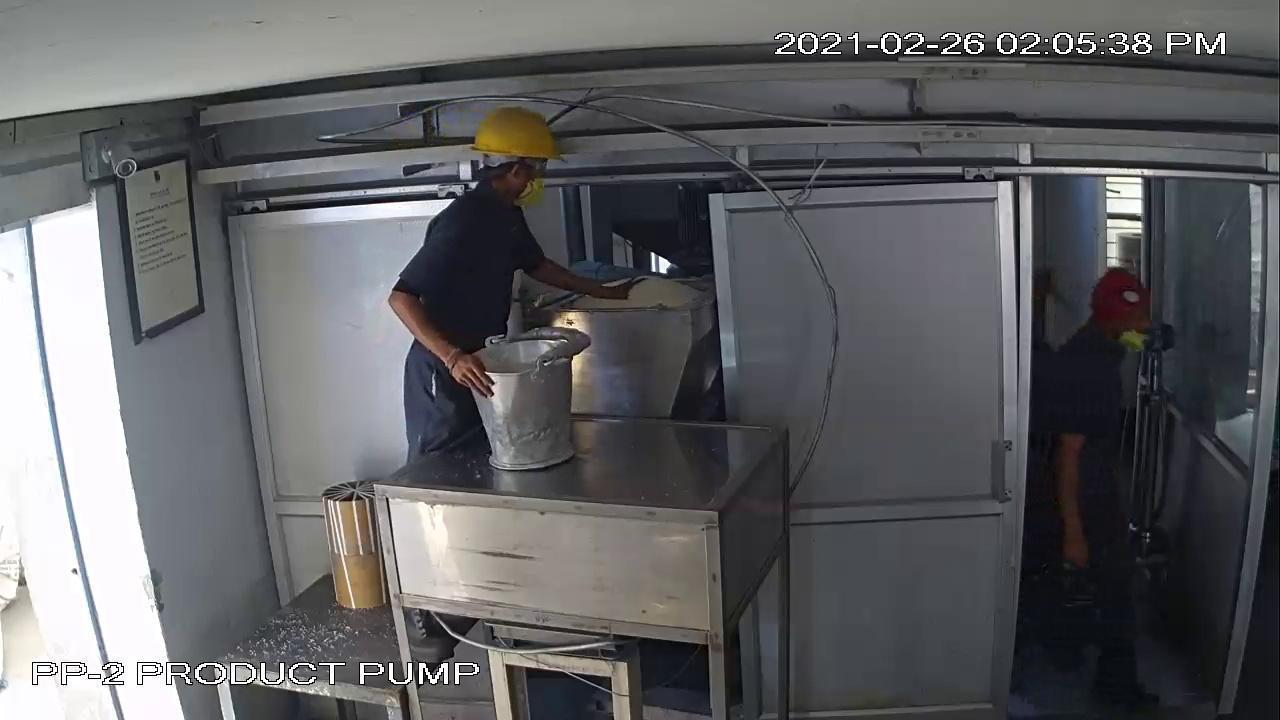helmet: (453, 102, 575, 169)
